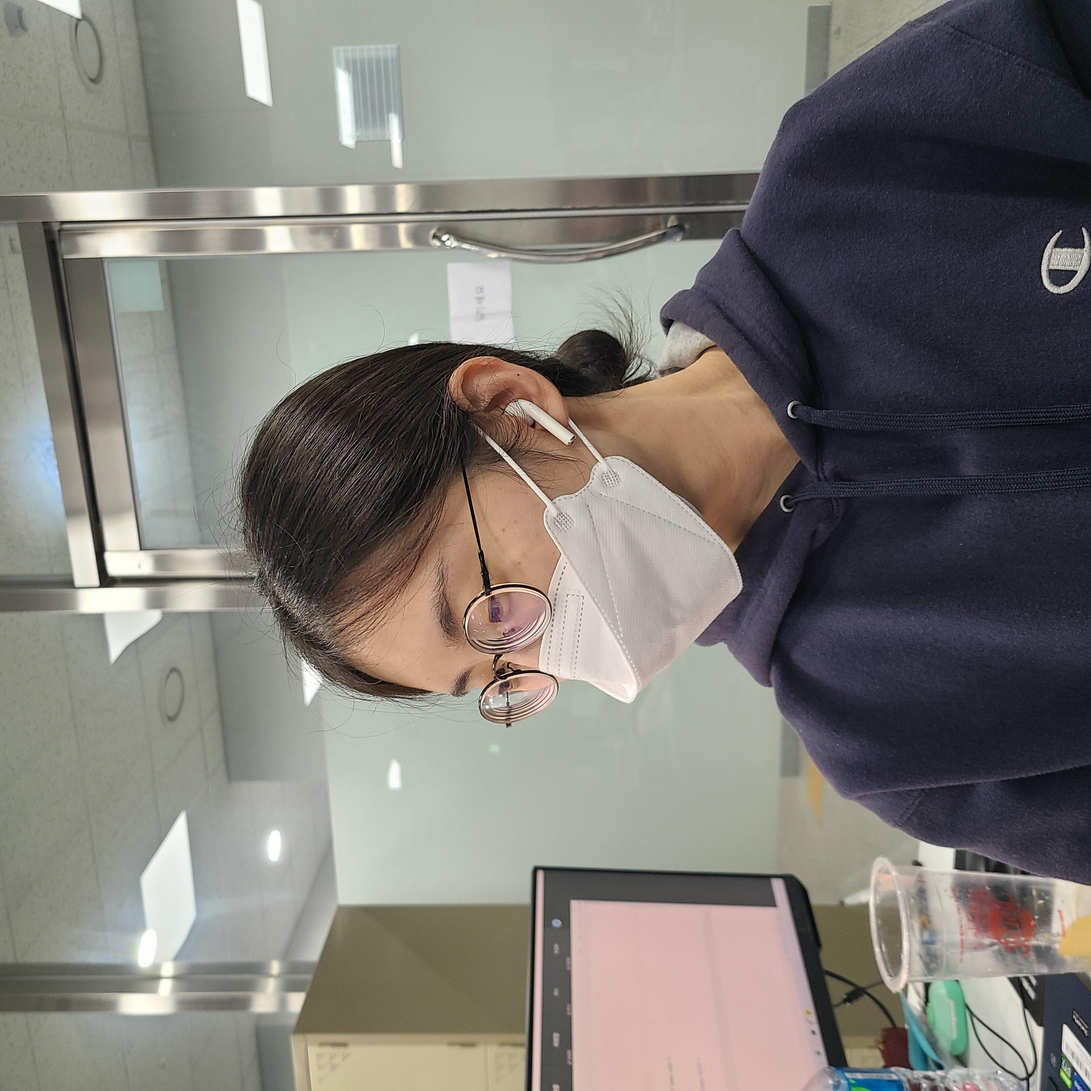earphone: (646, 500, 702, 578)
